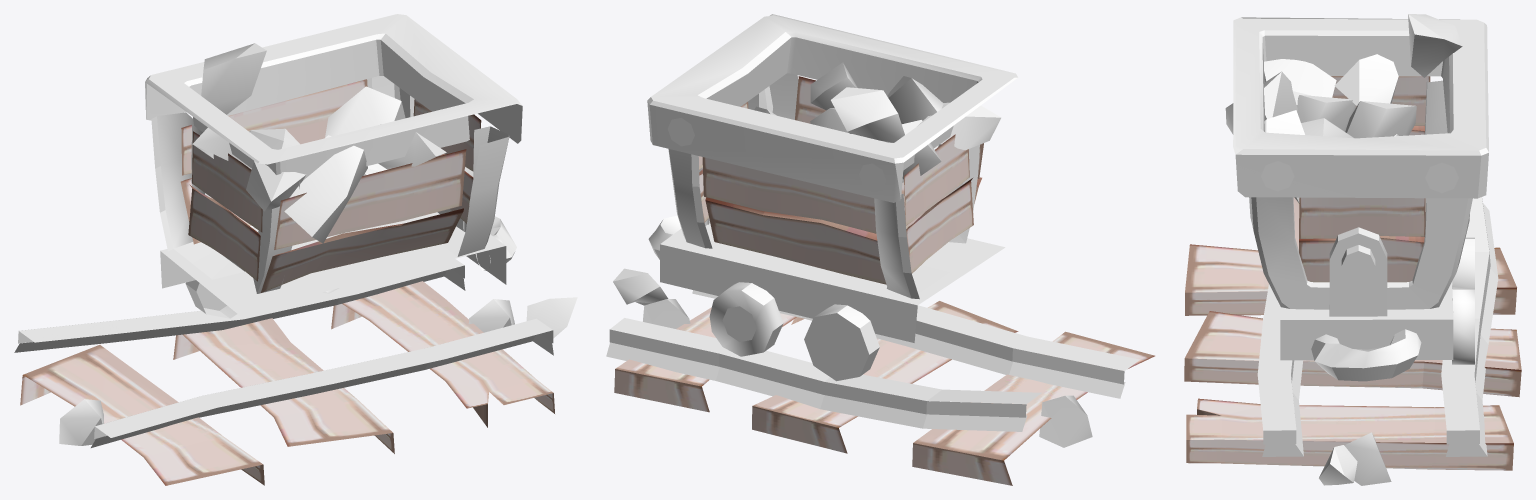
The model's file is MineCart.fbx.
3 renders of one model, left to right at view 1: azimuth 30°, elevation 25°; view 2: azimuth 150°, elevation 25°; view 3: azimuth 270°, elevation 25°, orthographic. The views are drawn at different scales.
Parts seen in each view (by area): view 1: CoalCart; view 2: CoalCart; view 3: CoalCart.
Part boxes in pixels (x1,y1,x2,y2): CoalCart: [14, 14, 577, 485]; CoalCart: [606, 14, 1154, 485]; CoalCart: [1184, 14, 1521, 485].
Bounding box in the file's own units: 2 × 1.26 × 1.11.
